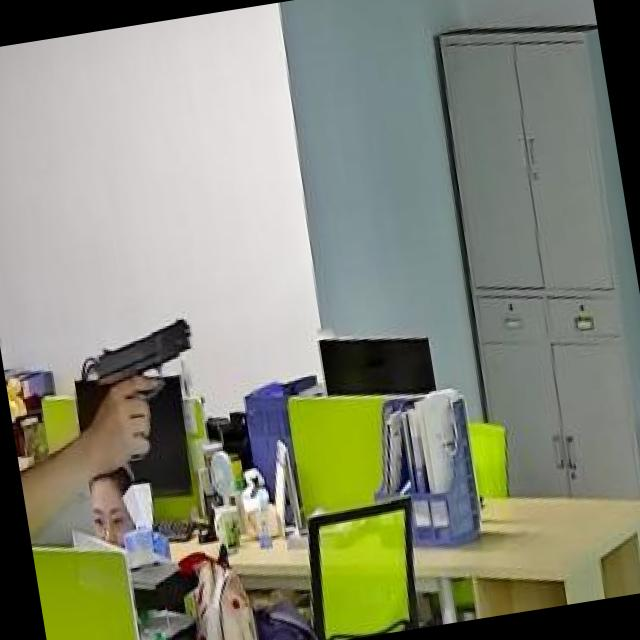Guns: (61, 294, 206, 435)
